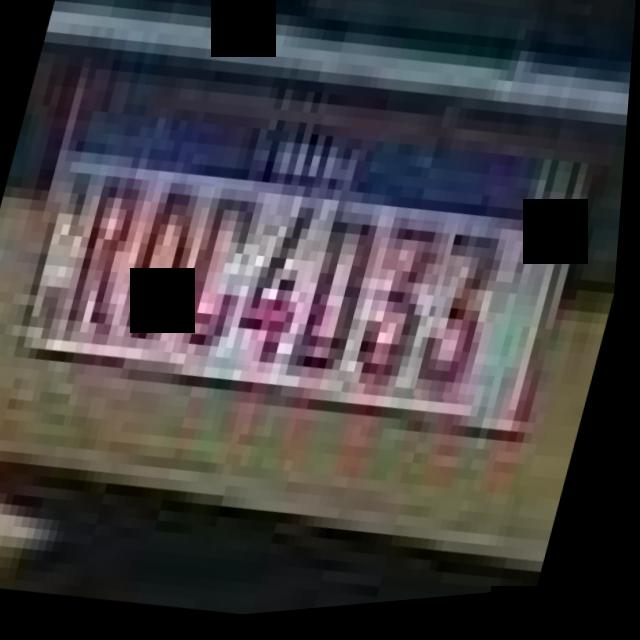3: (418, 224, 519, 415), (354, 224, 454, 405)
4: (234, 181, 338, 380)
C: (177, 183, 278, 366)
D: (299, 211, 389, 386)
O: (118, 178, 217, 359)
R: (61, 170, 158, 353)
